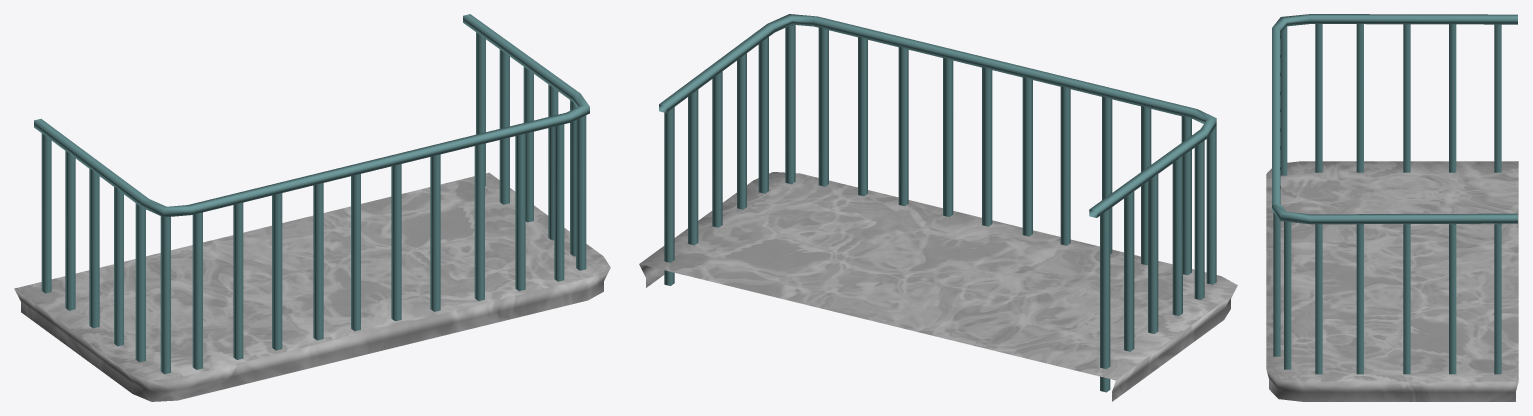
The model's file is Env_Balcony.fbx.
3 views of the same model, side by side, from view 1: azimuth 30°, elevation 25°; view 2: azimuth 150°, elevation 25°; view 3: azimuth 270°, elevation 25° (orthographic). The views are drawn at different scales.
Visible parts, largest first — view 1: Env_Balcony; view 2: Env_Balcony; view 3: Env_Balcony.
Part boxes in pixels (x1=…): Env_Balcony: x1=14, y1=14, x2=610, y2=401; Env_Balcony: x1=639, y1=14, x2=1237, y2=401; Env_Balcony: x1=1266, y1=14, x2=1518, y2=401.
Bounding box in the file's own units: 173 × 65.05 × 83.45.
